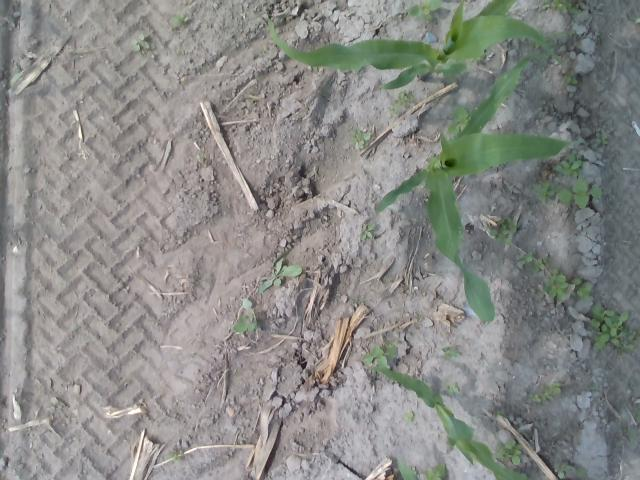Maize: (374, 51, 572, 323), (267, 0, 561, 93), (366, 363, 534, 480), (394, 454, 426, 480)
Weeds: (590, 303, 640, 356), (555, 177, 602, 210), (259, 258, 302, 292), (540, 268, 569, 303), (362, 340, 398, 368), (445, 104, 476, 136), (488, 215, 517, 246), (492, 438, 522, 466), (554, 150, 584, 178), (406, 0, 441, 23), (528, 381, 563, 403), (388, 90, 415, 114), (554, 460, 586, 480), (130, 33, 154, 59), (232, 312, 260, 333), (540, 0, 580, 13), (571, 278, 592, 302), (532, 180, 554, 202), (348, 129, 372, 149), (440, 342, 460, 360), (424, 464, 446, 480), (531, 256, 550, 272), (516, 250, 534, 266), (360, 222, 376, 240), (561, 71, 577, 89), (166, 450, 184, 462), (170, 13, 188, 24), (444, 382, 458, 395), (404, 411, 416, 424), (594, 132, 607, 144), (629, 378, 640, 391), (624, 428, 636, 439), (242, 298, 252, 308), (631, 14, 640, 24), (634, 408, 640, 422), (198, 155, 205, 163), (494, 410, 501, 417), (263, 45, 268, 52), (590, 385, 596, 390)
